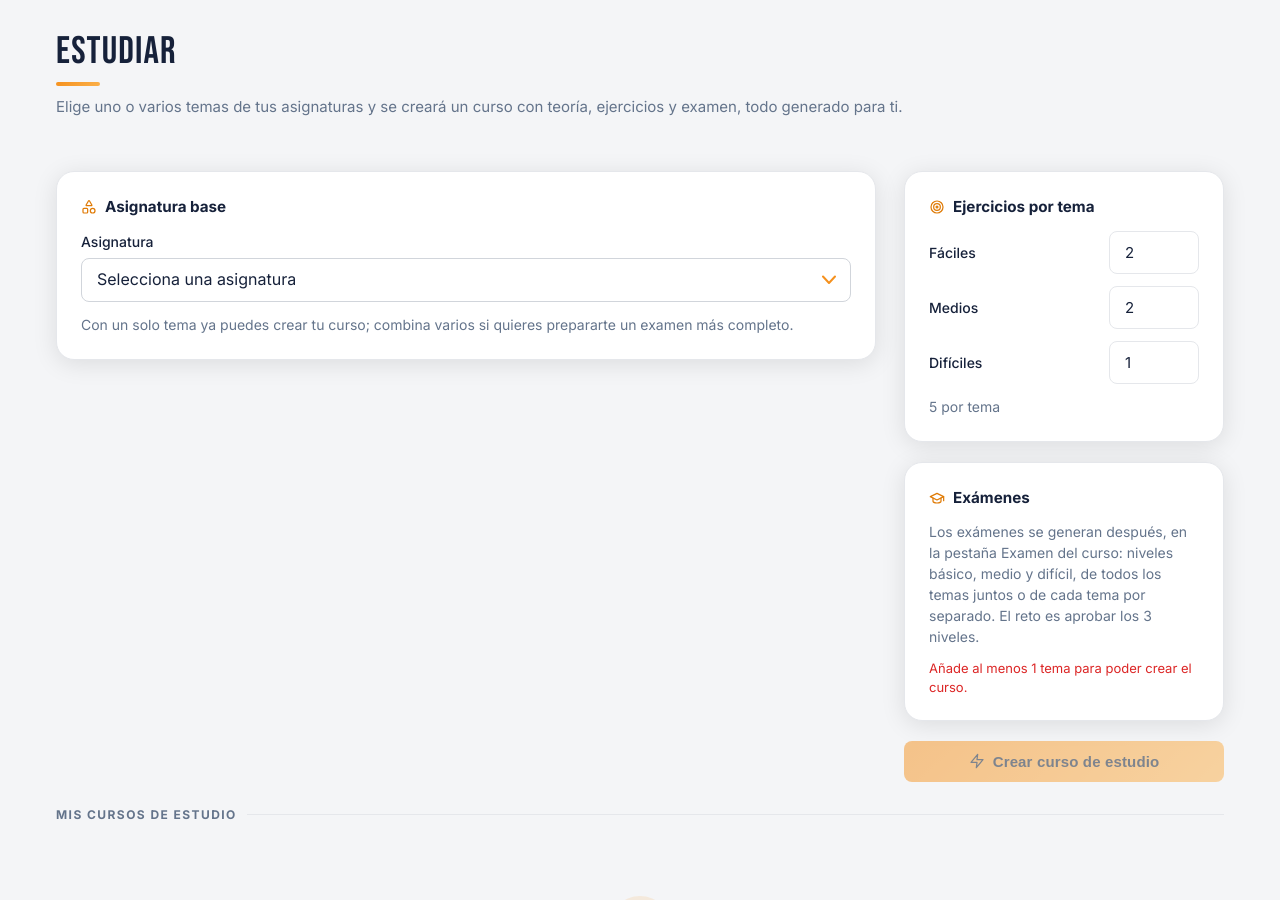
Test: StudyPage — asignatura fuera del listado › ofrece escribir la asignatura cuando no está en el desplegable
This screenshot has width=1280, height=900.
Expected: the field labelled "¿Qué asignatura?" is not shown
Select "Otra asignatura (la escribo yo)" in the dropdown labelled "Asignatura" at point(466, 280), box top-left (81, 258), bottom-right (851, 302)
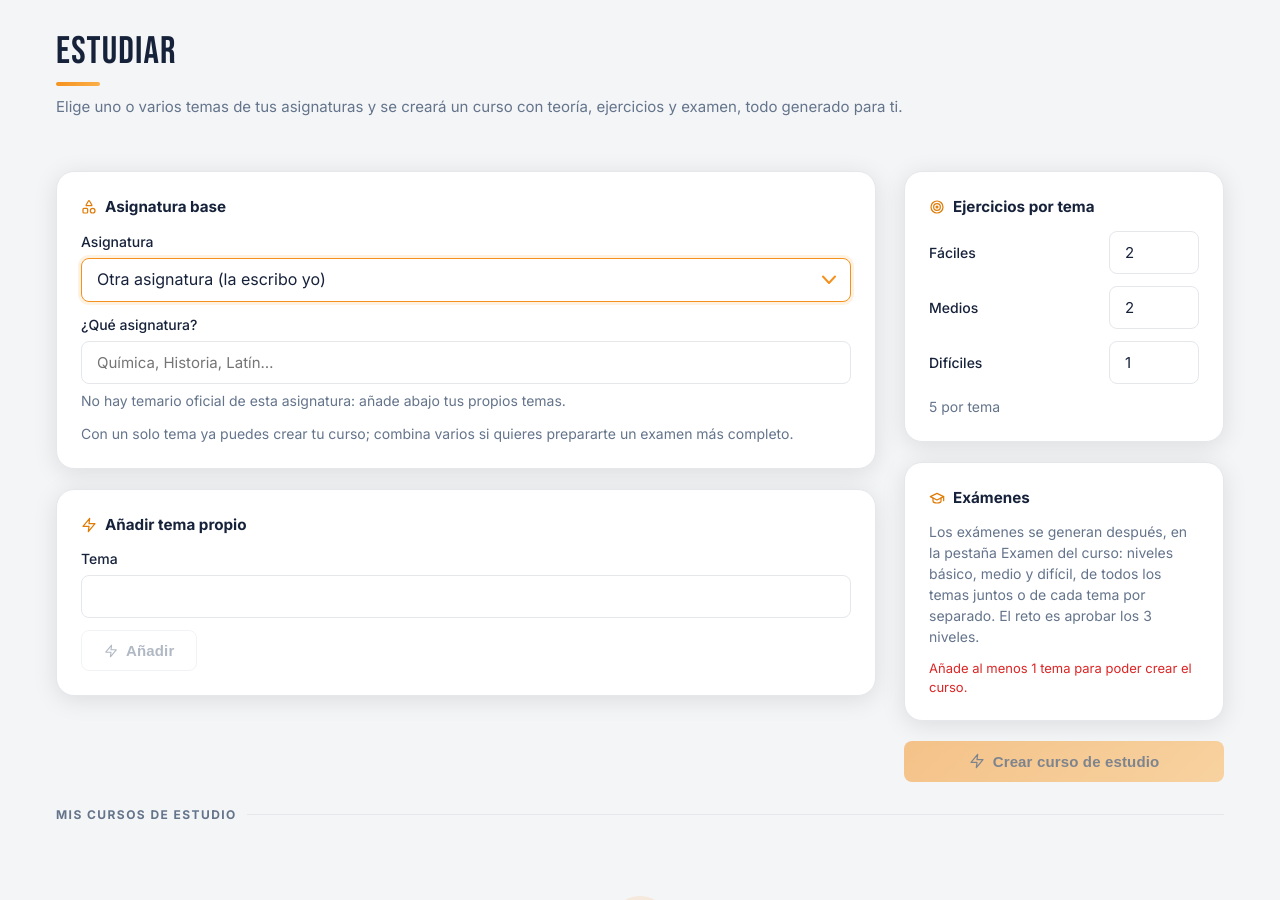
Now the field labelled "¿Qué asignatura?" is shown, box top-left (81, 341), bottom-right (851, 384)
